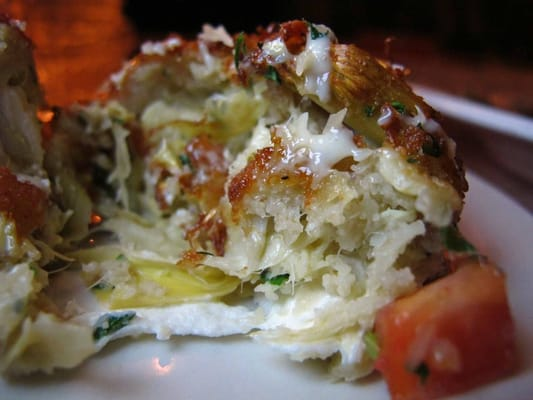soup: (2, 15, 494, 389)
